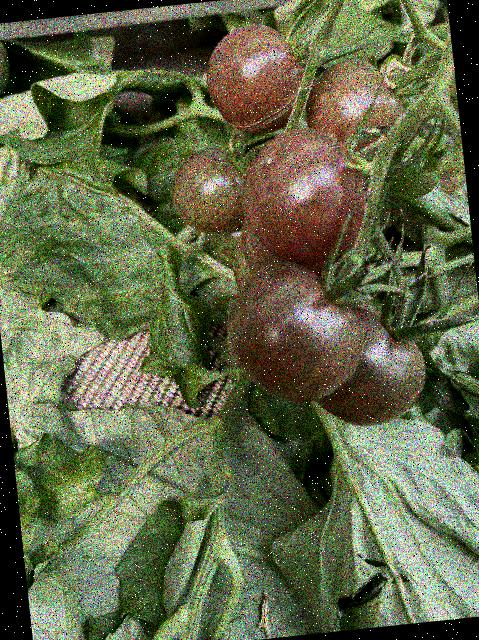l_fully_ripened: (236, 122, 376, 270), (201, 19, 311, 141), (168, 145, 251, 238)
l_green: (382, 133, 443, 200)
l_half_ripened: (219, 254, 369, 409), (307, 302, 431, 433), (301, 55, 411, 167)
